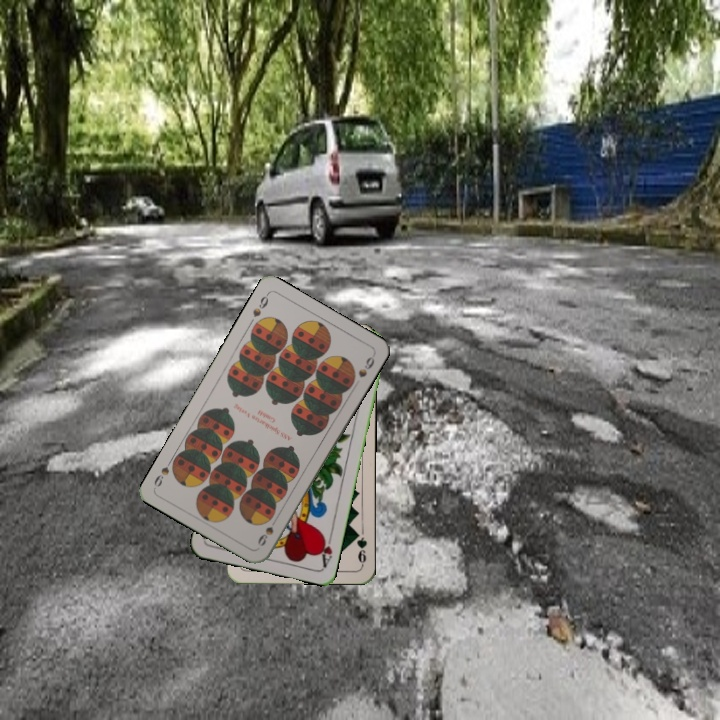G9: (351, 527, 369, 568)
HA: (315, 529, 335, 569)
S9: (254, 513, 280, 549), (248, 289, 271, 320)
